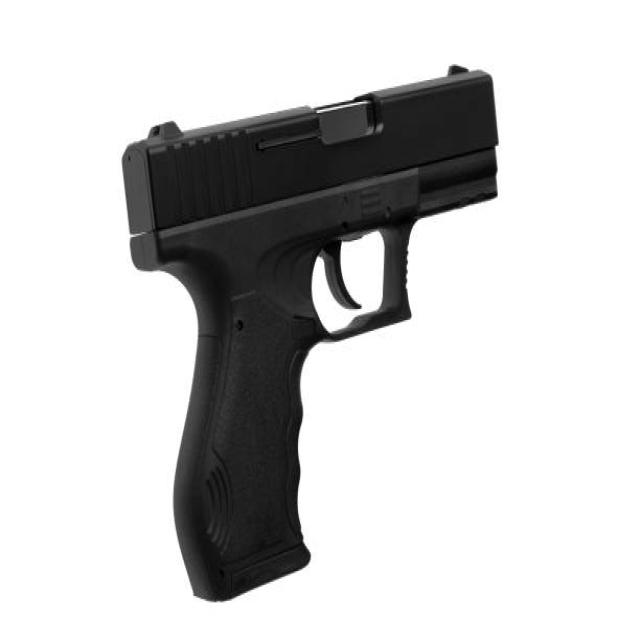pistol: (116, 46, 508, 608)
